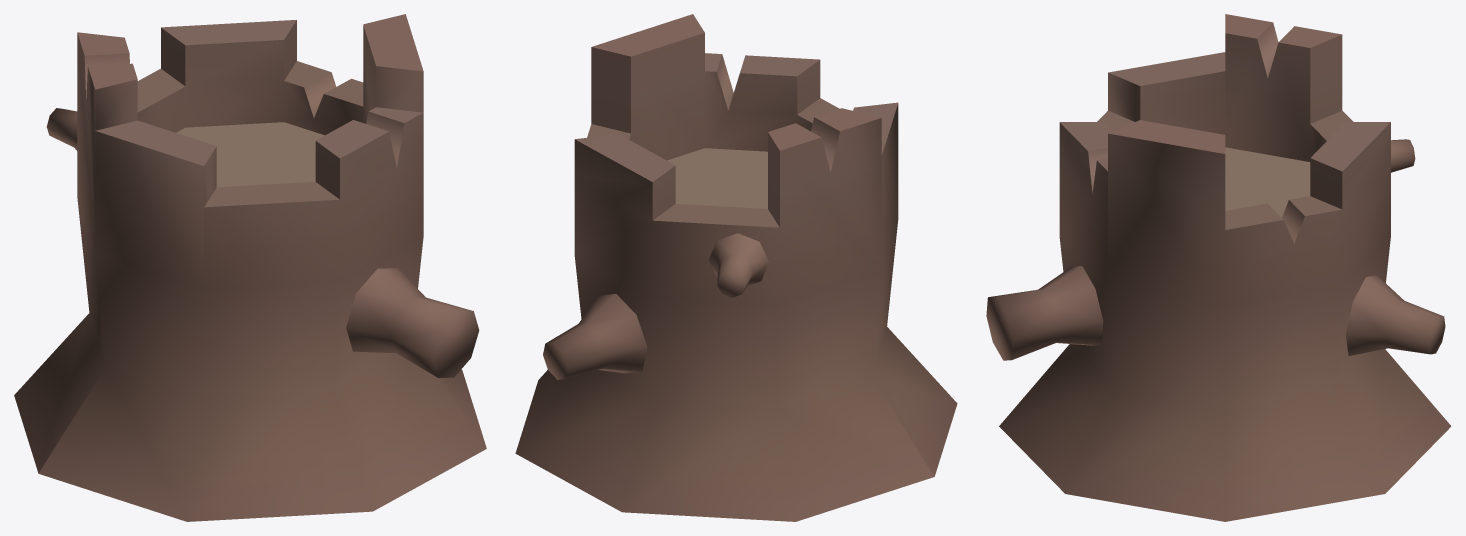
File: trunk.glb
The picture shows the model from 3 angles, left to right: view 1: azimuth 30°, elevation 25°; view 2: azimuth 150°, elevation 25°; view 3: azimuth 270°, elevation 25°; orthographic projection. The views are drawn at different scales.
Visible parts, largest first — view 1: trunk; view 2: trunk; view 3: trunk.
Boxes of the visible parts, x1,y1,x2,y2 form: trunk: (14,14,486,521); trunk: (515,14,957,521); trunk: (986,14,1451,521).
Size of the model in its own units: 0.8089 by 0.675 by 0.8314.
1 material, 1 textured.
